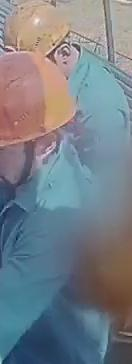helmet: (0, 50, 76, 148), (2, 0, 70, 56)
vest: (0, 137, 105, 363), (69, 43, 132, 246)
